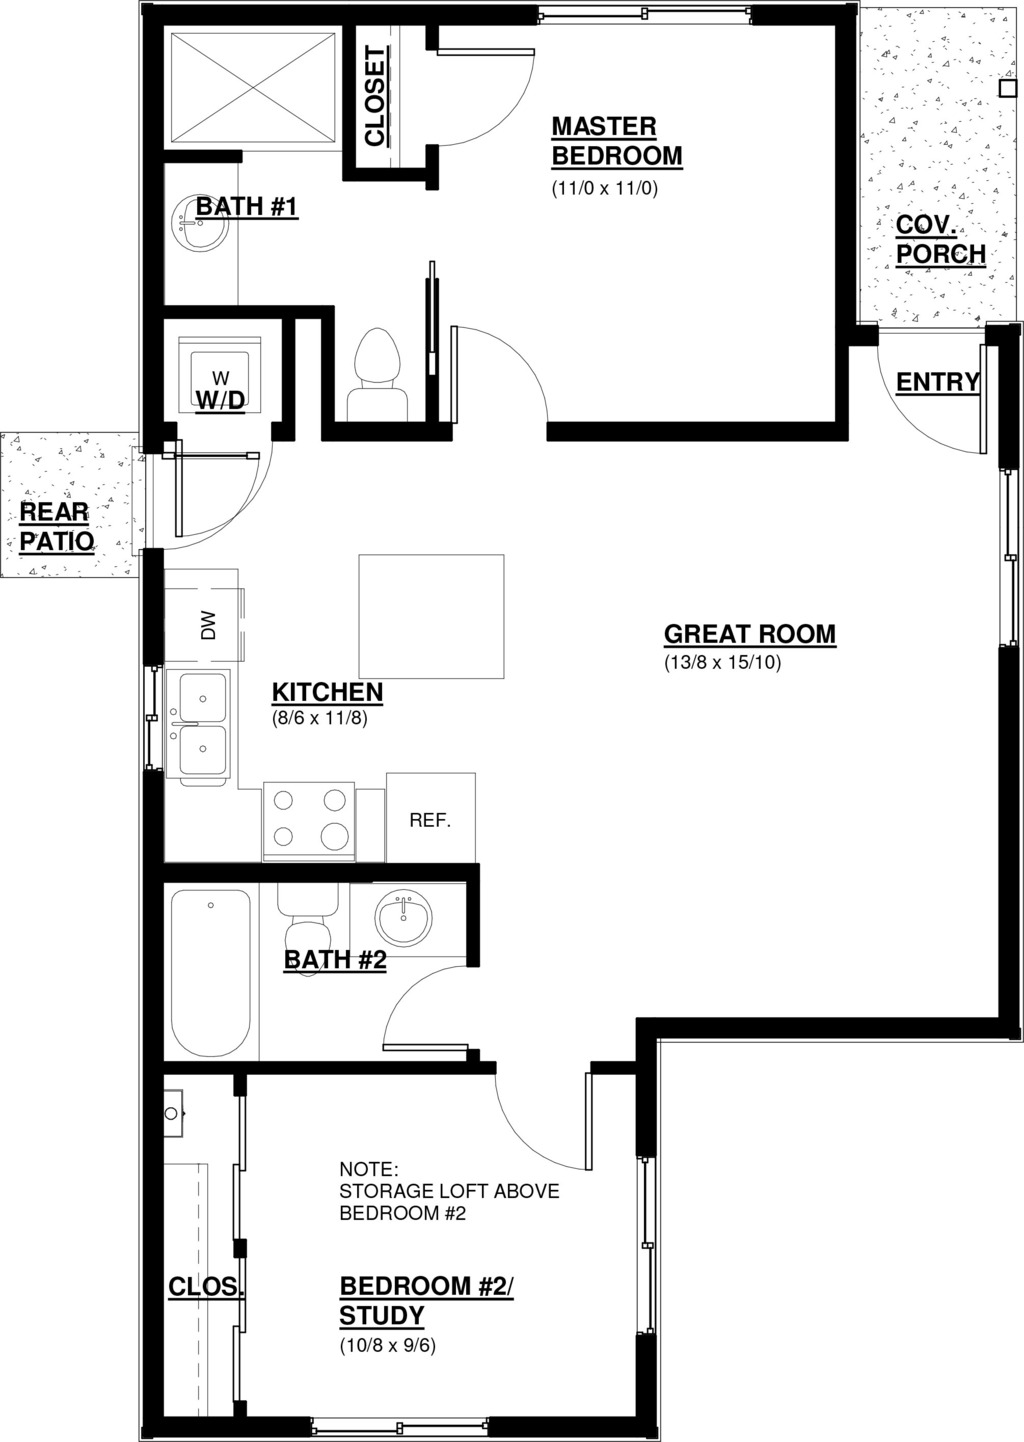door: (869, 325, 997, 463), (414, 41, 546, 172), (482, 1067, 606, 1178), (355, 963, 491, 1063), (440, 325, 553, 444), (175, 436, 280, 534)
large_sink: (337, 316, 414, 434), (275, 884, 354, 981)
small_sink: (153, 176, 250, 301), (363, 872, 469, 963)
tub: (157, 881, 253, 1068)
twin_sink: (173, 667, 253, 787)
window: (635, 1160, 666, 1341), (309, 1409, 493, 1438), (533, 6, 740, 27), (131, 663, 168, 765), (1004, 472, 1020, 643)
